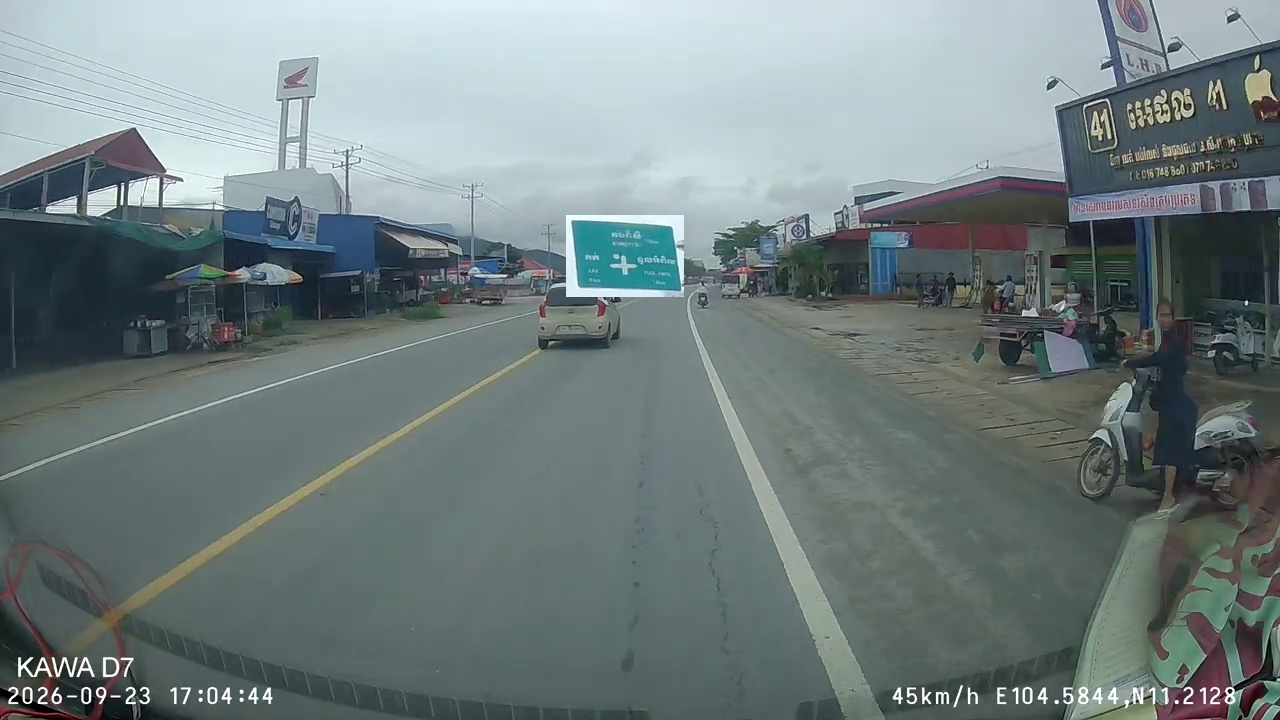direction_sign: (566, 215, 684, 297)
